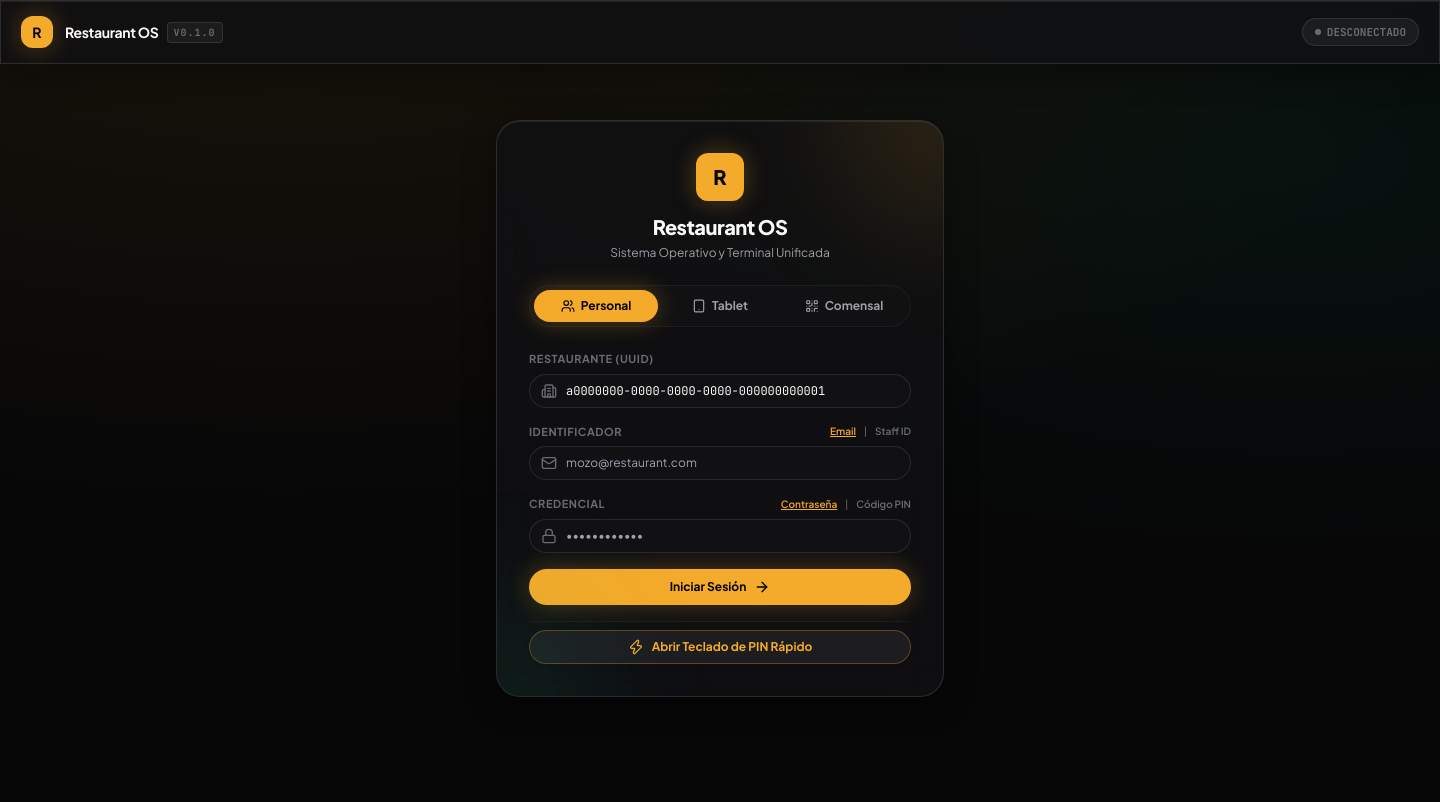
Test: Step 3.5 — Frontend Authentication, Authorization & Session Management › 3. TableDevice Authentication › 3.1. Successfully connects terminal tablet with secret
Click the button "Tablet". click: (720, 306)
box: [658,290,782,322]
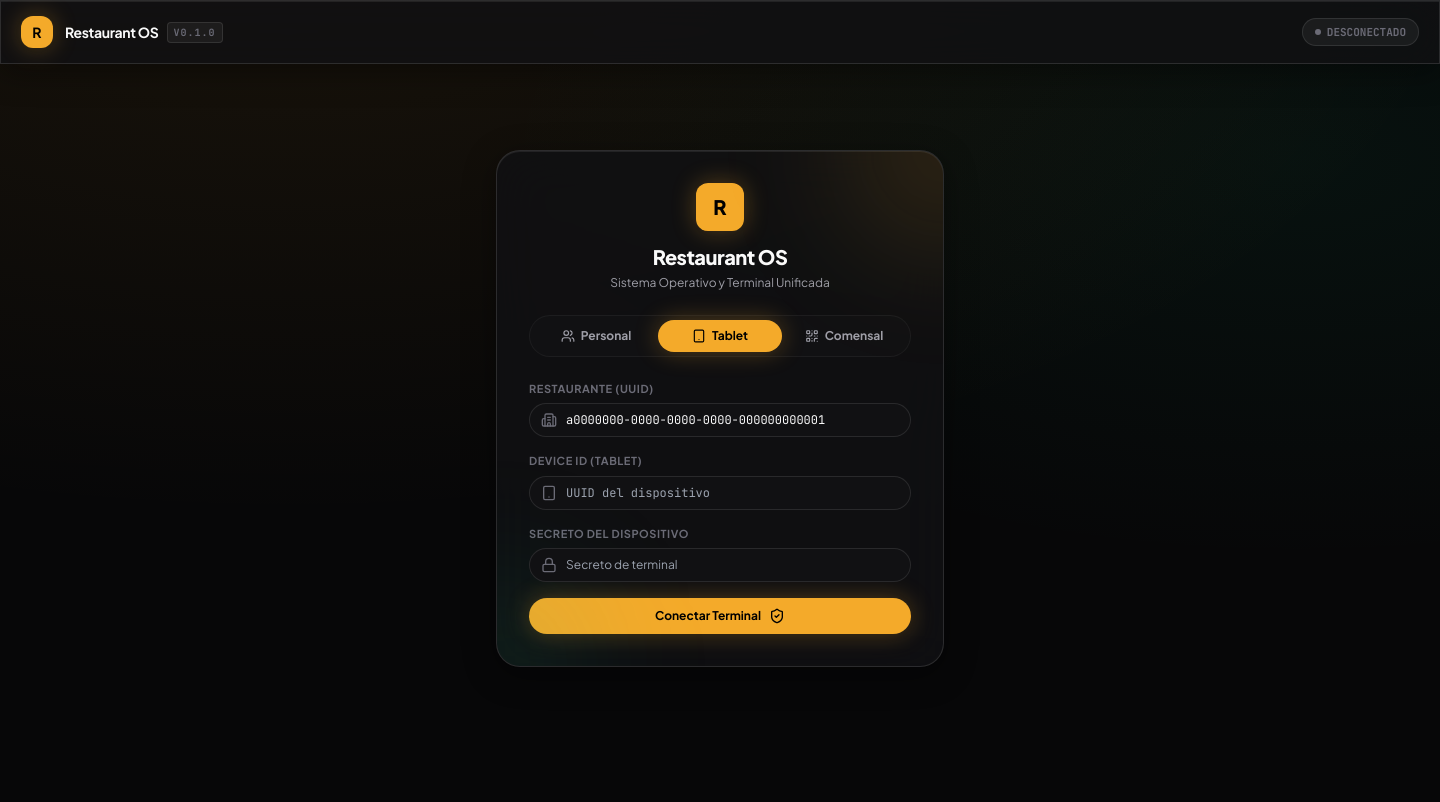
Type "d0000000-0000-0000-0000-000000000001" into the field with placeholder "UUID del dispositivo". click: (720, 492)
box: [529,476,911,510]
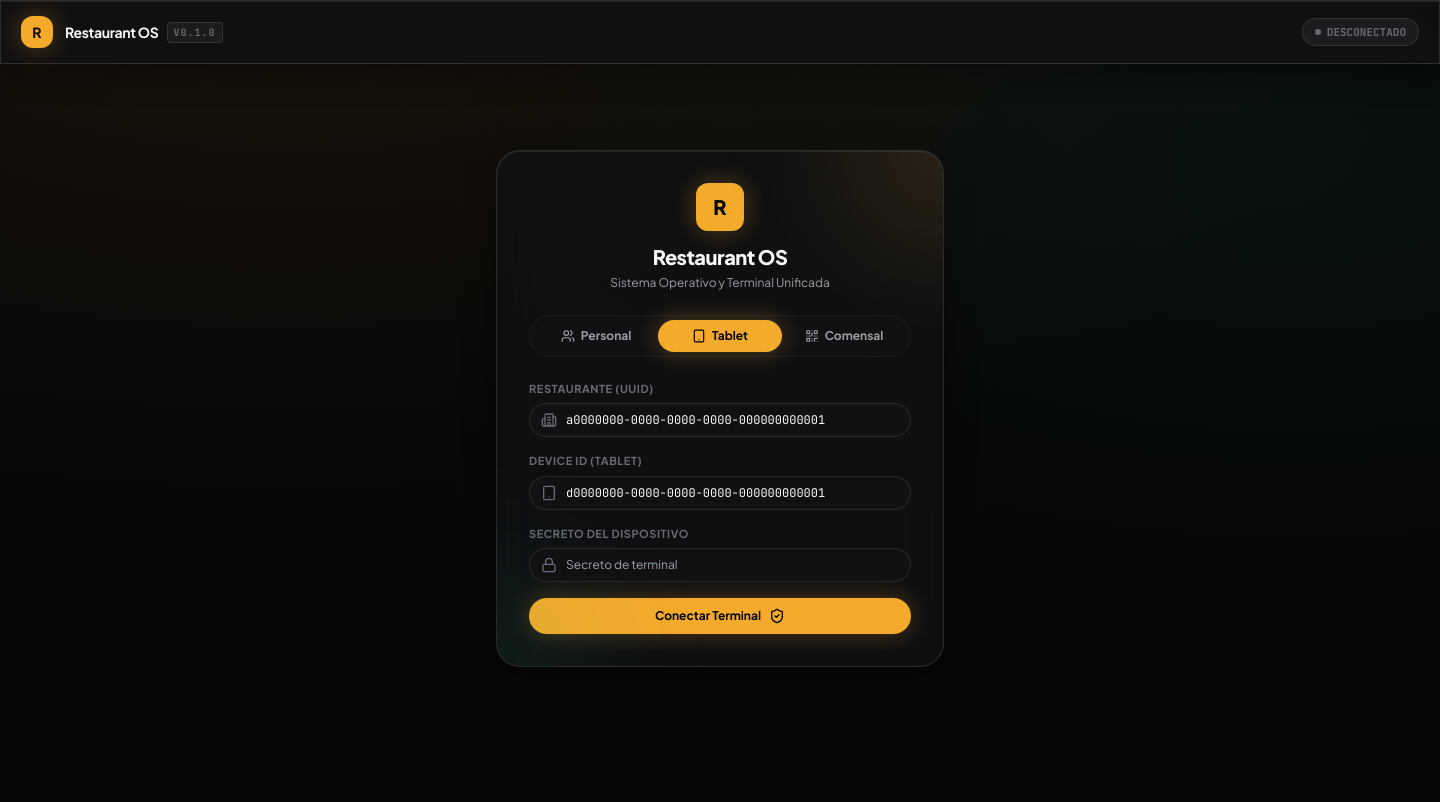
Type "device_secret_xyz" into the password field with placeholder "Secreto de terminal". click: (720, 565)
box: [529,548,911,582]
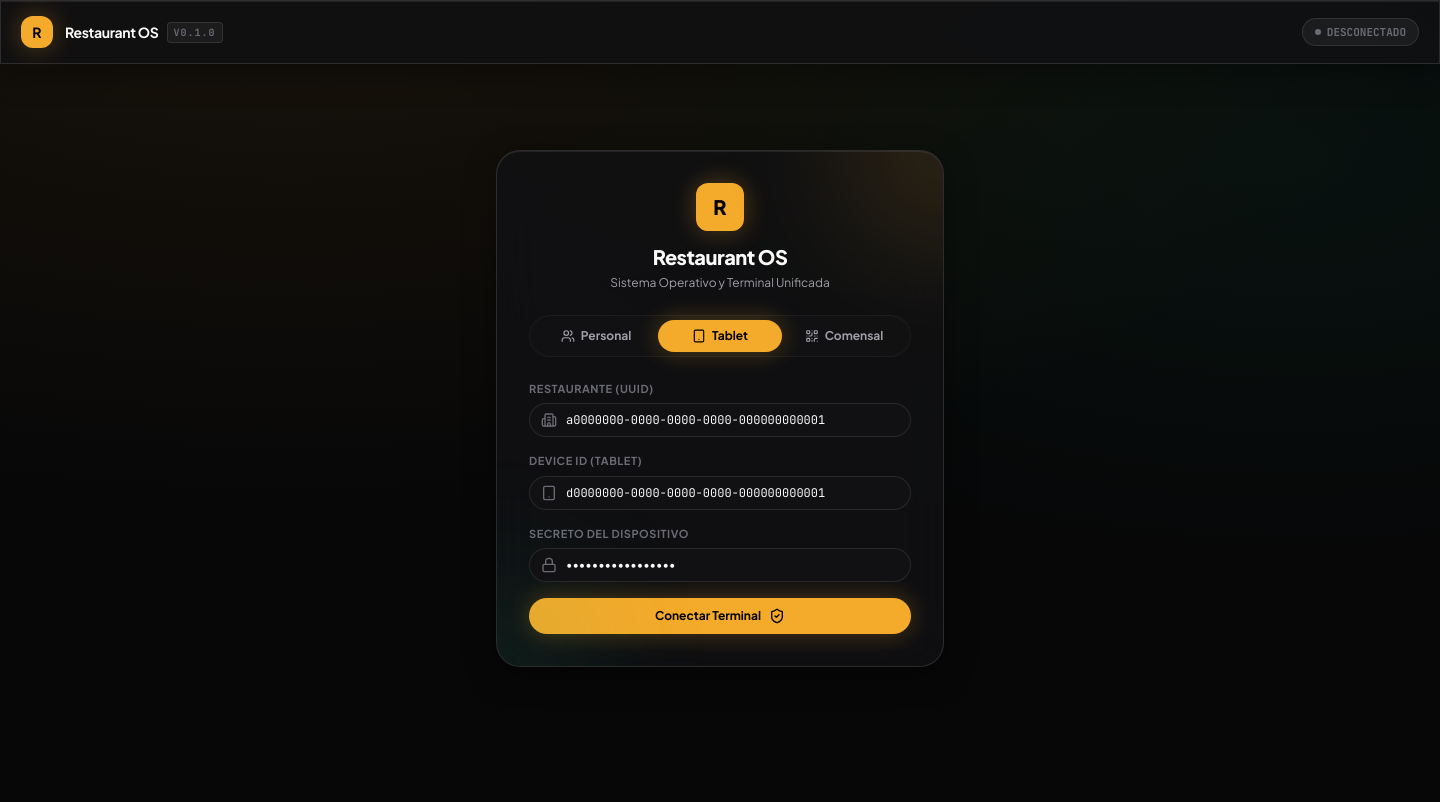
Click the button "Conectar Terminal". click: (720, 616)
box: [529,598,911,634]
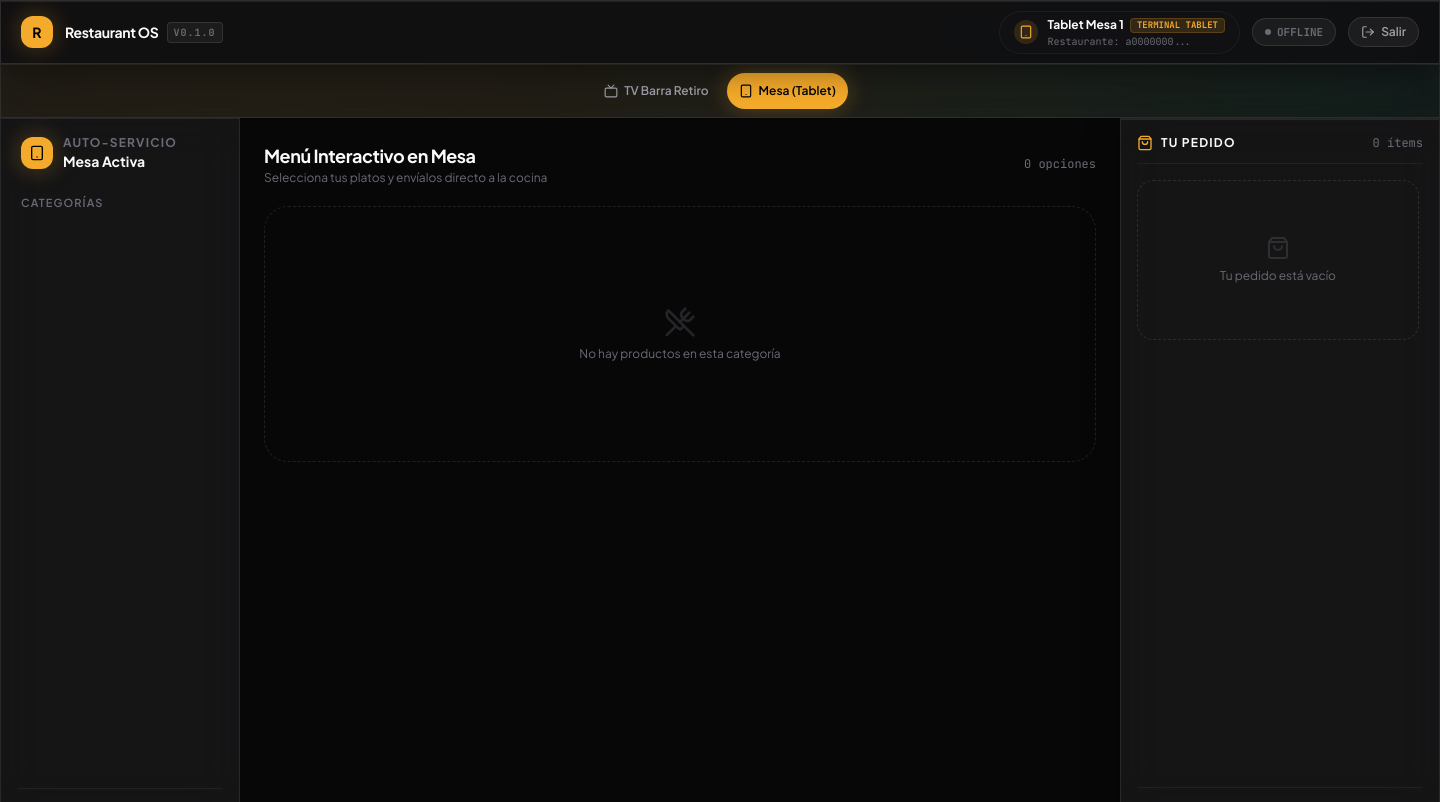
Check: the text "Tablet Mesa 1" is shown, box [1048,19,1124,31]
Check: the text "Terminal Tablet" is shown, box [1130,18,1225,32]
